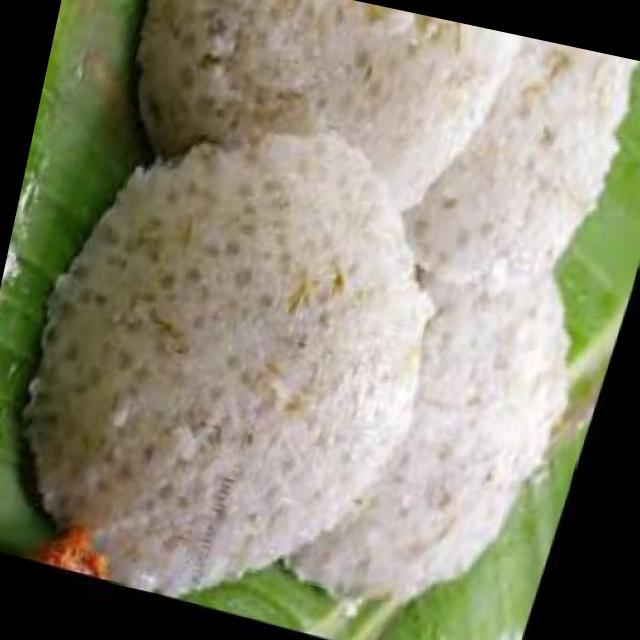idli: (0, 73, 492, 640), (283, 225, 609, 640), (100, 0, 522, 246), (390, 19, 640, 314)
